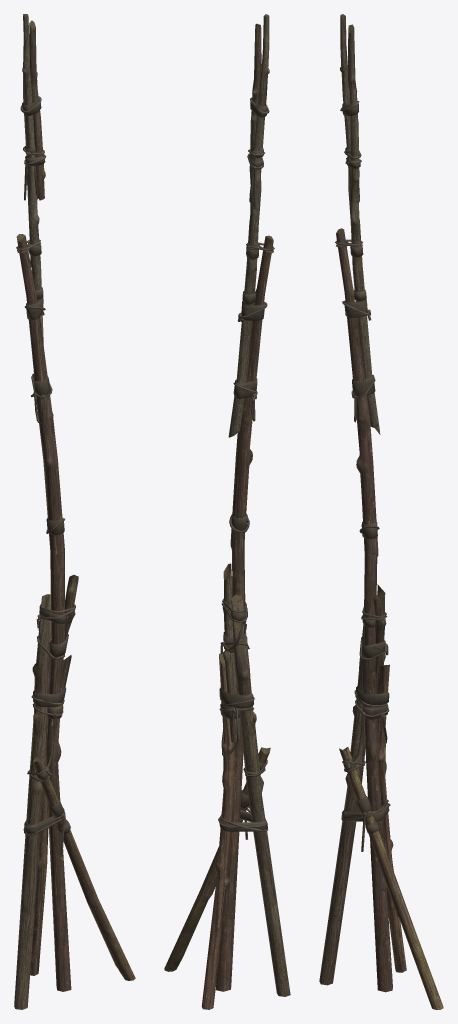
File: GEN_PRO_DockPillar_02A_LOD0-transformed.glb
3 views of the same model, side by side, from view 1: azimuth 30°, elevation 25°; view 2: azimuth 150°, elevation 25°; view 3: azimuth 330°, elevation 25° (orthographic). The views are drawn at different scales.
Parts seen in each view (by area): view 1: default; view 2: default; view 3: default.
Part boxes in pixels (x1=…): default: x1=14, y1=14, x2=135, y2=1009; default: x1=164, y1=14, x2=290, y2=1009; default: x1=319, y1=14, x2=443, y2=1009.
Bounding box in the file's own units: 2.24 × 17.19 × 1.26.
Materials: 2 (2 with a texture image).
